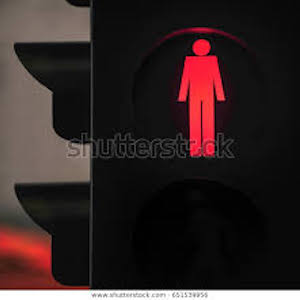red: (172, 34, 225, 155)
